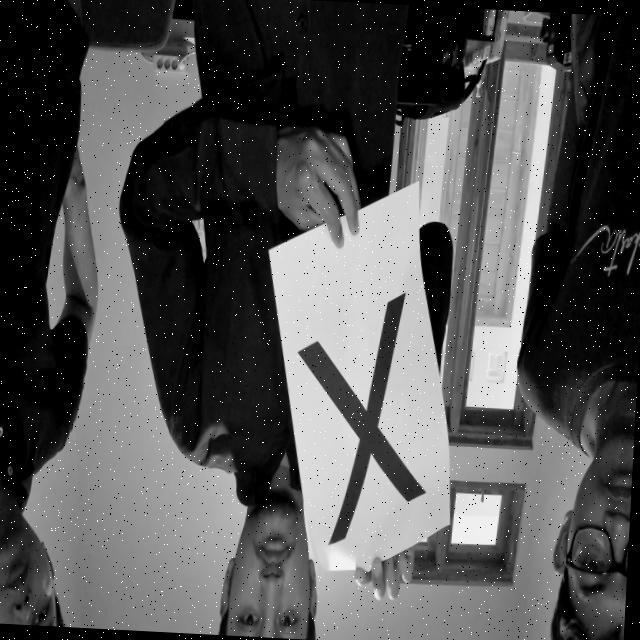x: (284, 277, 446, 548)
